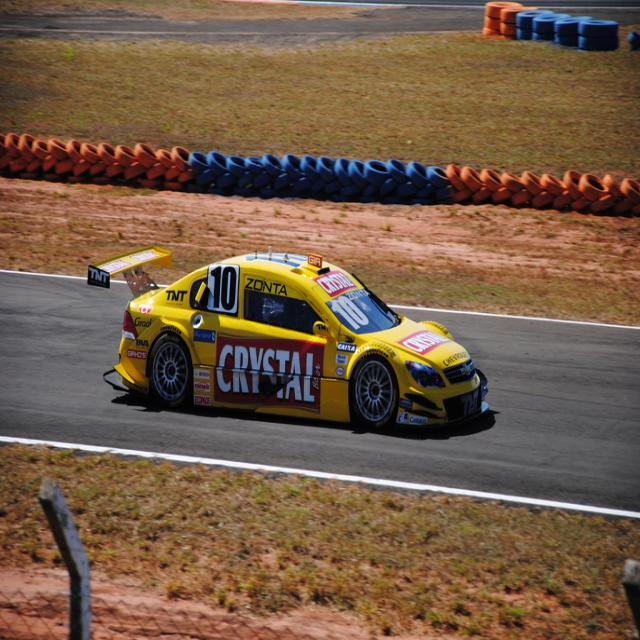car: (84, 237, 488, 438)
